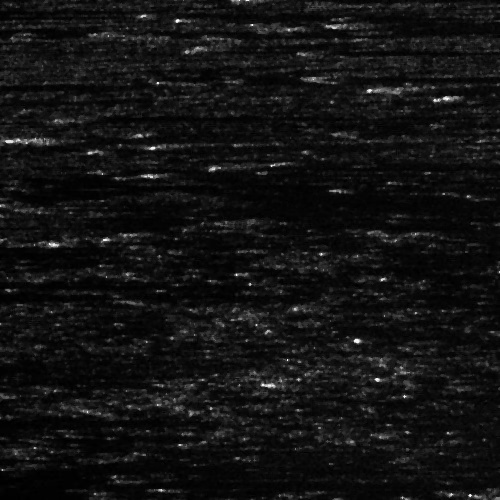object: (295, 74, 500, 99), (186, 160, 321, 171), (0, 133, 89, 142), (49, 111, 112, 120), (292, 73, 355, 80), (0, 97, 30, 104), (157, 141, 198, 146), (146, 140, 177, 145), (341, 18, 372, 23), (303, 49, 344, 52), (201, 0, 316, 1), (92, 29, 123, 32), (108, 498, 139, 500)
shadow: (254, 160, 482, 171), (400, 74, 500, 99), (43, 133, 258, 142), (80, 111, 223, 120), (0, 79, 141, 88), (323, 73, 500, 80), (10, 97, 148, 104), (357, 18, 500, 23), (323, 49, 468, 52), (0, 378, 85, 383), (162, 140, 236, 145), (178, 141, 252, 146), (108, 29, 176, 32), (124, 498, 200, 500)
